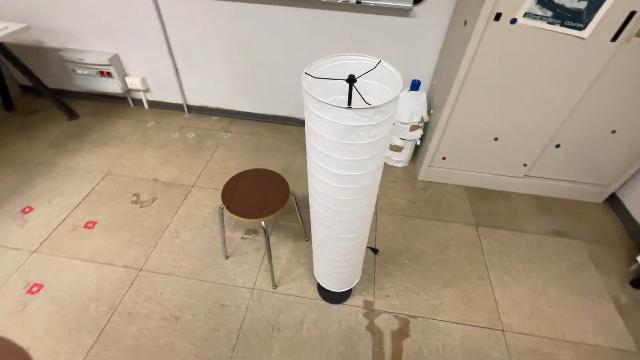Lamp: (296, 50, 408, 308)
Stool: (213, 164, 311, 294)
